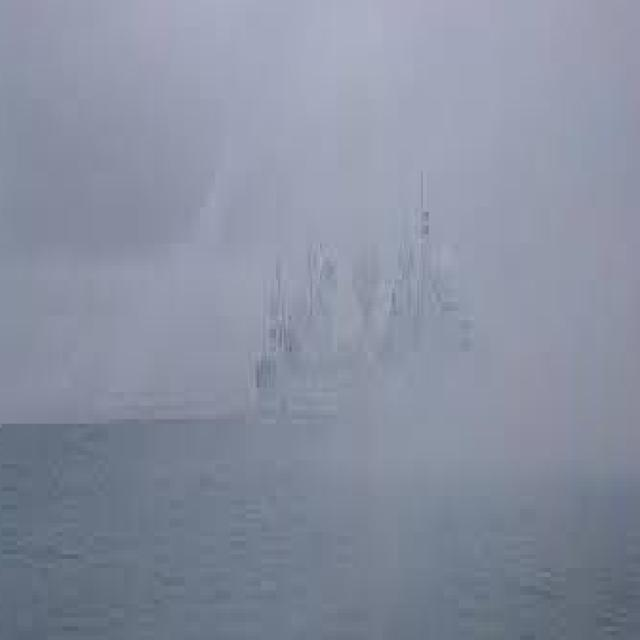navalvessels: (241, 212, 499, 444)
